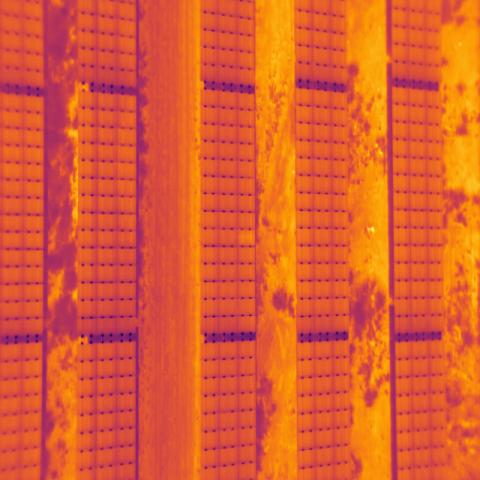fault: (236, 228, 255, 247)
